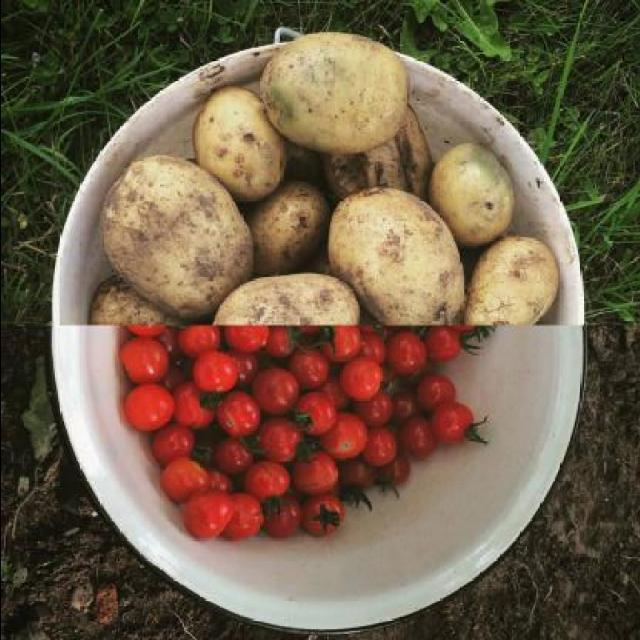Potato: (258, 31, 410, 155)
